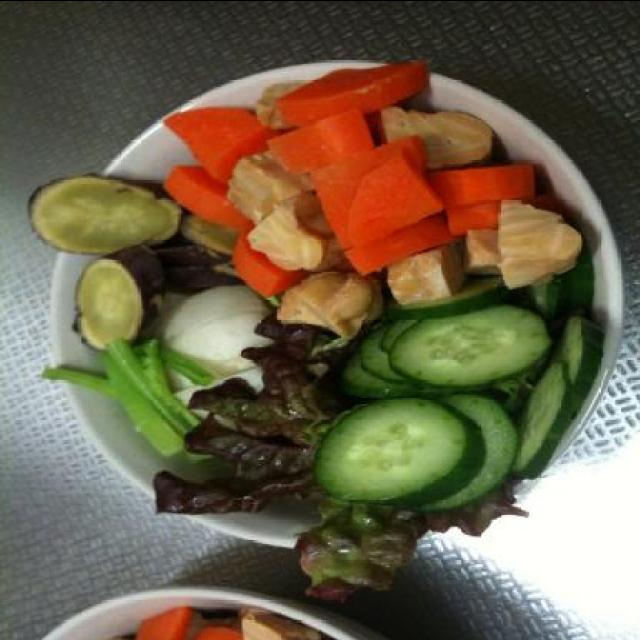Salad: (24, 57, 608, 601), (97, 602, 334, 640)
